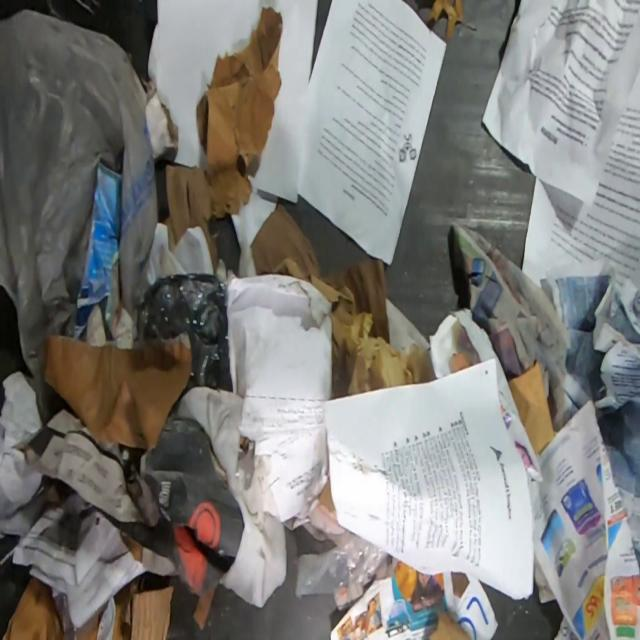cardboard: (249, 204, 390, 399), (196, 4, 284, 220), (43, 332, 192, 450), (161, 164, 219, 273), (506, 356, 556, 458), (112, 572, 175, 640), (1, 575, 62, 640), (424, 605, 478, 640)
rigid_plastic: (134, 271, 233, 406), (55, 593, 96, 640)
soft_plastic: (0, 9, 158, 424), (294, 532, 389, 598)
